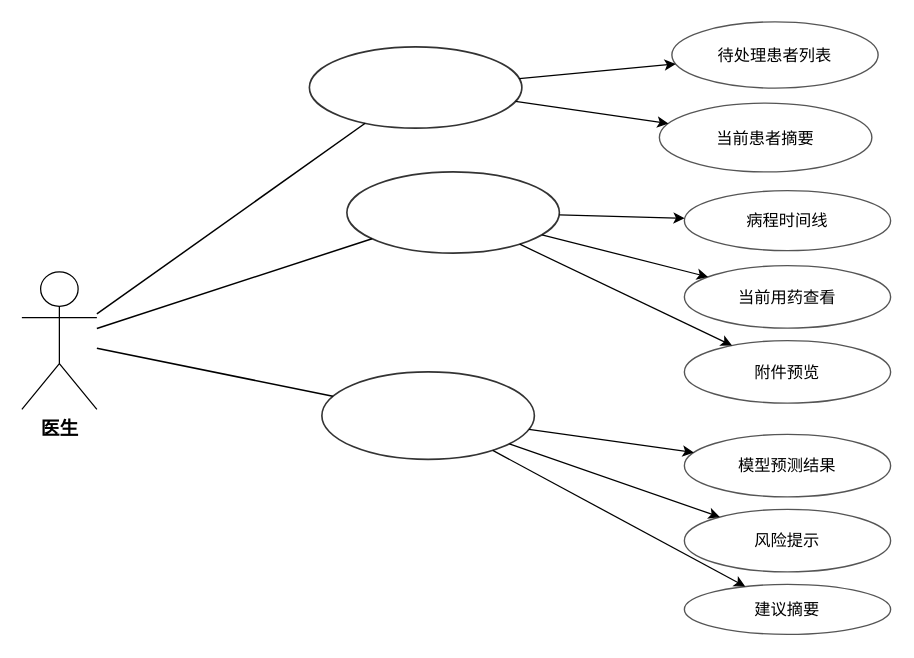
This 914x658 diagram has some shape labels left out. The shapes that lost their labels are listed below. From the top down, each one's centre as x and y in pixels, then its label:
(x=415, y=87): 进入医生工作台
(x=453, y=211): 查看患者详情
(x=427, y=415): 模型辅助分析
